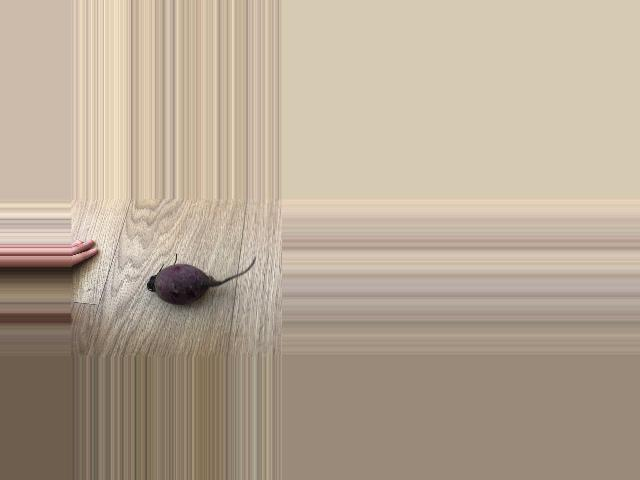beet: (148, 253, 256, 304)
